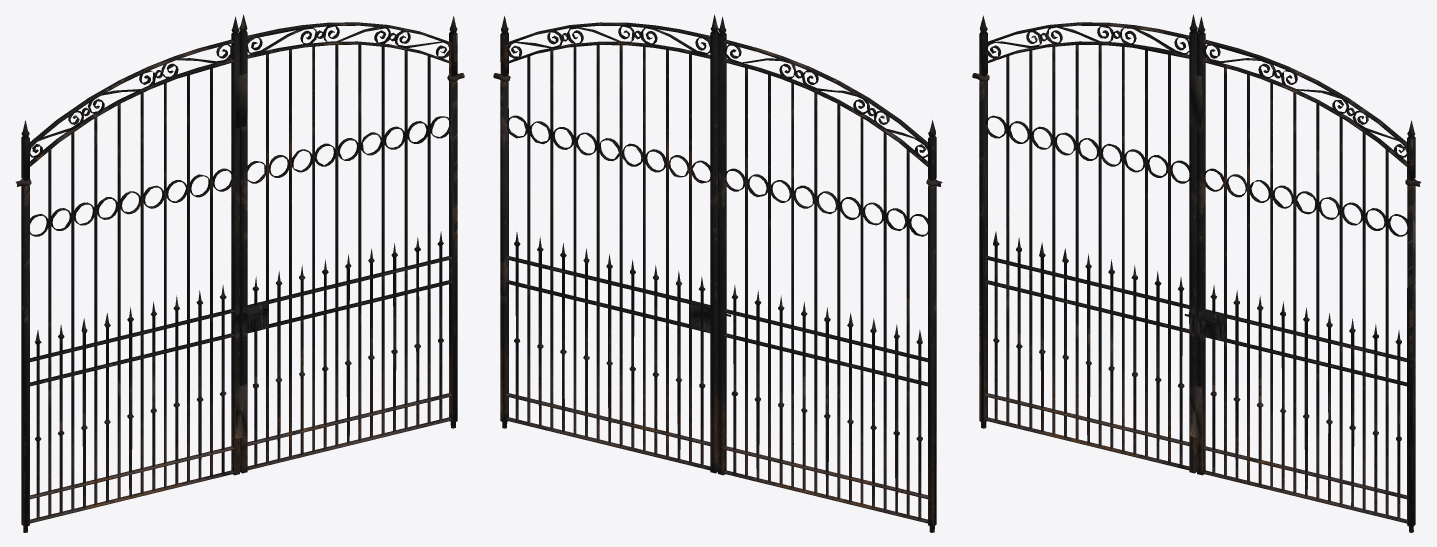
File: iron_gate.glb
3 renders of one model, left to right at view 1: azimuth 30°, elevation 25°; view 2: azimuth 150°, elevation 25°; view 3: azimuth 330°, elevation 25°, orthographic.
Visible parts, largest first — view 1: large_iron_gate_right_door; view 2: large_iron_gate_right_door; view 3: large_iron_gate_right_door.
Boxes of the visible parts, x1,y1,x2,y2 form: large_iron_gate_right_door: (16, 14, 464, 532); large_iron_gate_right_door: (493, 14, 942, 532); large_iron_gate_right_door: (972, 14, 1420, 532).
Size of the model in its own units: 2.95 by 2.93 by 0.0947.
1 material, 1 textured.
